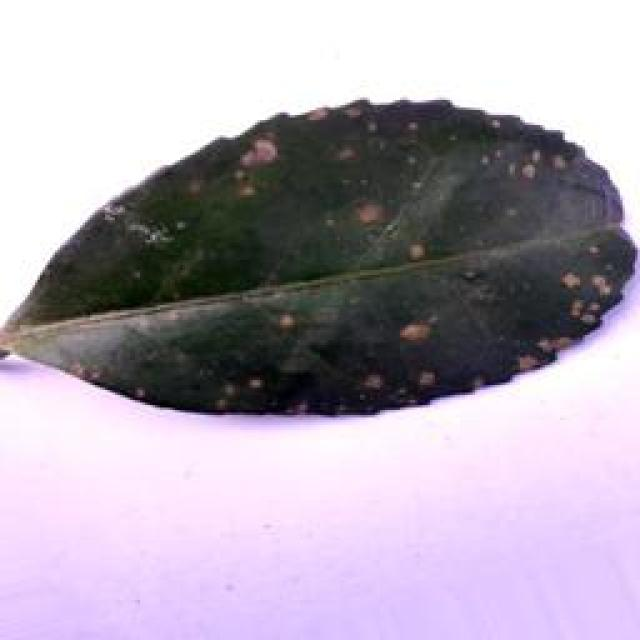Algal Leaf Spot: (0, 83, 640, 428)
